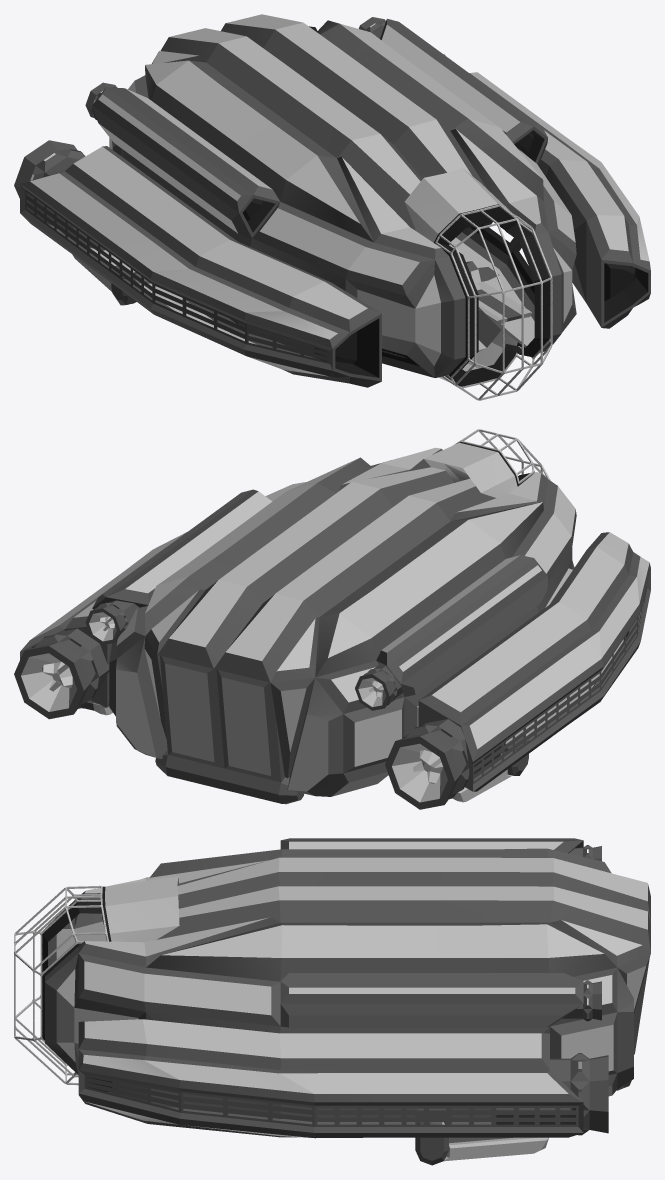
The picture shows the model from 3 angles, top to bottom: view 1: azimuth 30°, elevation 25°; view 2: azimuth 150°, elevation 25°; view 3: azimuth 270°, elevation 25°; orthographic projection. The views are drawn at different scales.
Visible parts, largest first — view 1: lt-450; view 2: lt-450; view 3: lt-450.
Part boxes in pixels (<box>): lt-450: <box>14,14,650,400</box>; lt-450: <box>14,429,650,809</box>; lt-450: <box>14,838,650,1165</box>.
Size of the model in its own units: 16.8 by 19.87 by 7.1.
